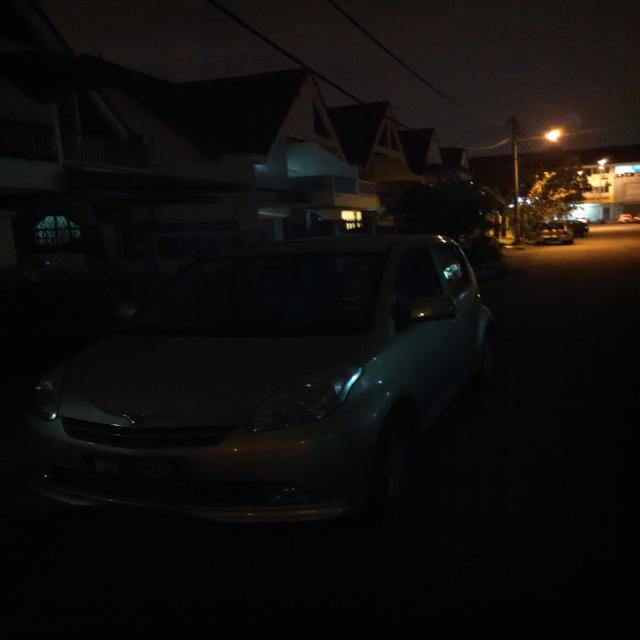Car: (32, 230, 490, 512)
